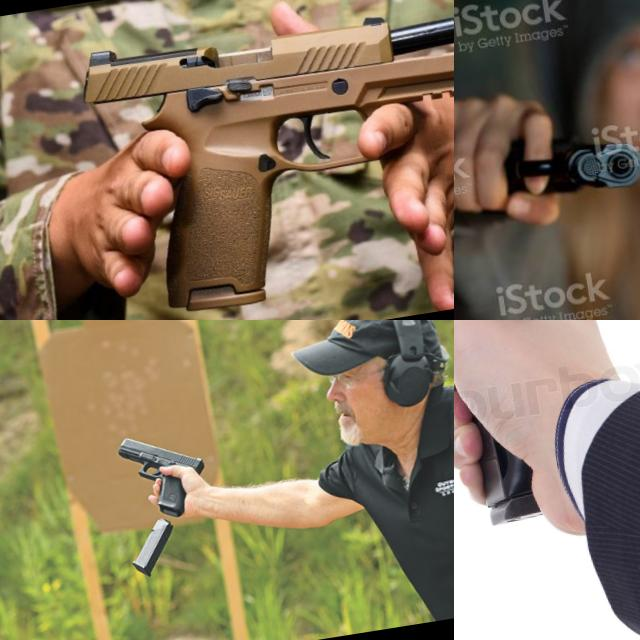handgun: (69, 0, 454, 320), (454, 320, 593, 543), (488, 114, 640, 212), (112, 423, 215, 528)
